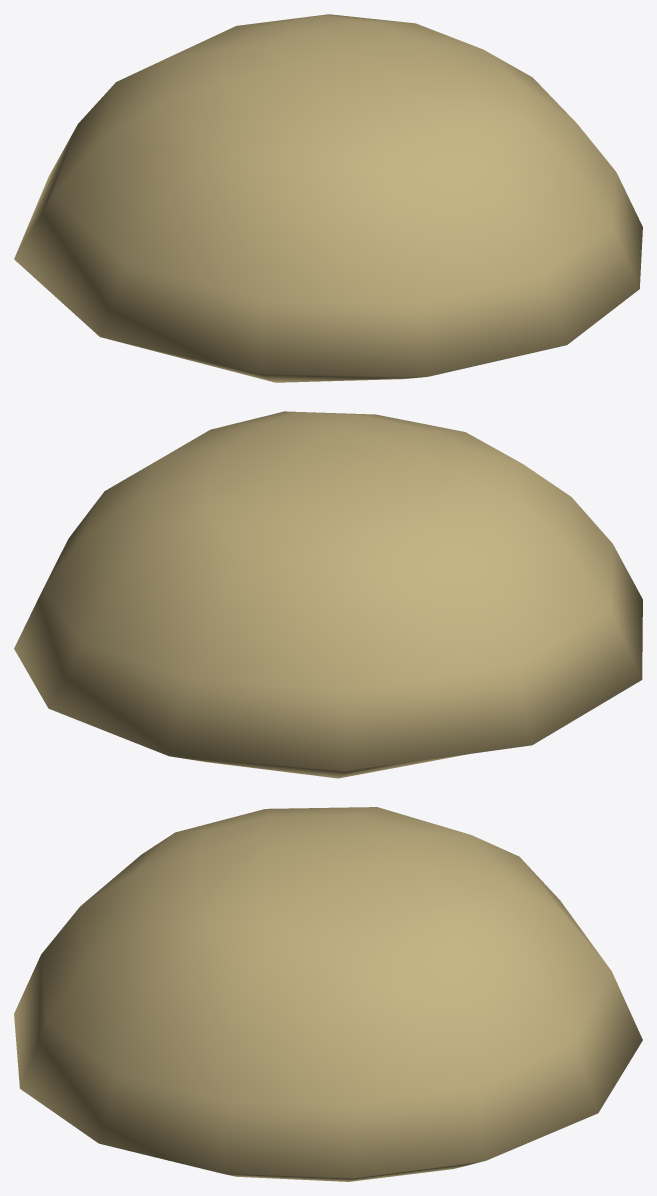
Rendered from Bun_Top.fbx.
3 views of the same model, one above another, from view 1: azimuth 30°, elevation 25°; view 2: azimuth 150°, elevation 25°; view 3: azimuth 270°, elevation 25° (orthographic).
Visible parts, largest first — view 1: SubTool_1_5430089; view 2: SubTool_1_5430089; view 3: SubTool_1_5430089.
Boxes of the visible parts, x1,y1,x2,y2 form: SubTool_1_5430089: [14, 14, 642, 382]; SubTool_1_5430089: [14, 411, 642, 778]; SubTool_1_5430089: [14, 807, 642, 1181].
Bounding box in the file's own units: 1.57 × 0.6251 × 1.58.
